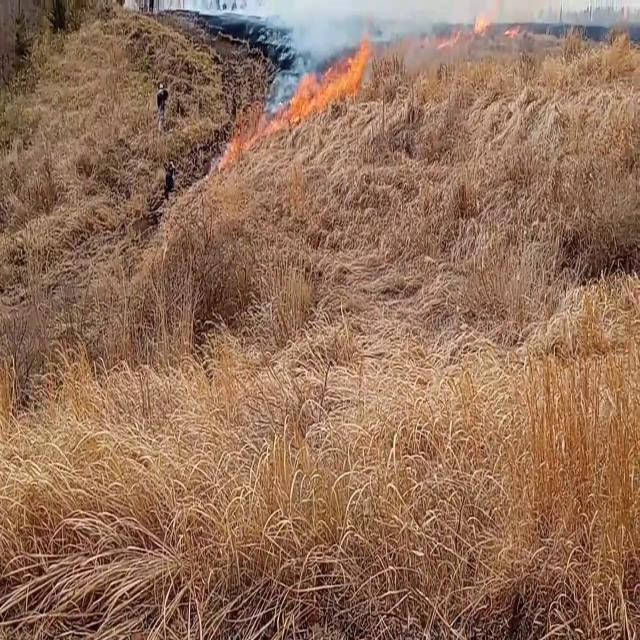Fire: (282, 19, 378, 122), (472, 5, 494, 38)
